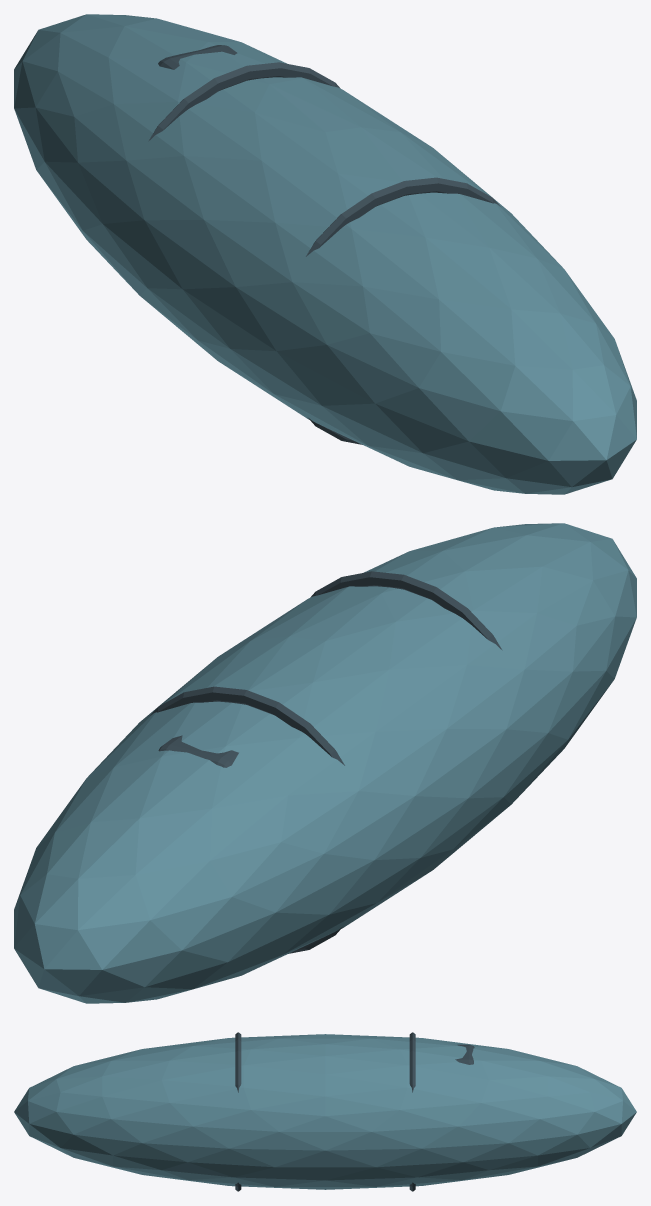
Rendered from HullSpindle.fbx.
3 renders of one model, top to bottom at view 1: azimuth 30°, elevation 25°; view 2: azimuth 150°, elevation 25°; view 3: azimuth 270°, elevation 25°, orthographic. The views are drawn at different scales.
Parts seen in each view (by area): view 1: SpindleHullMesh, SpindleAccentRingRear, SpindleAccentRingFront; view 2: SpindleHullMesh, SpindleAccentRingFront, SpindleAccentRingRear, SpindleCanopy; view 3: SpindleHullMesh, SpindleAccentRingFront, SpindleAccentRingRear.
Part boxes in pixels (x1,y1,x2,y2): SpindleHullMesh: (14,14,636,494); SpindleAccentRingRear: (306,177,500,444); SpindleAccentRingFront: (148,62,340,141); SpindleHullMesh: (14,523,636,1003); SpindleAccentRingFront: (150,686,344,953); SpindleAccentRingRear: (310,571,502,650); SpindleCanopy: (158,735,238,767); SpindleHullMesh: (14,1034,636,1189); SpindleAccentRingFront: (409,1032,415,1191); SpindleAccentRingRear: (235,1032,241,1191).
Size of the model in its own units: 2.2 by 1.93 by 7.5.
